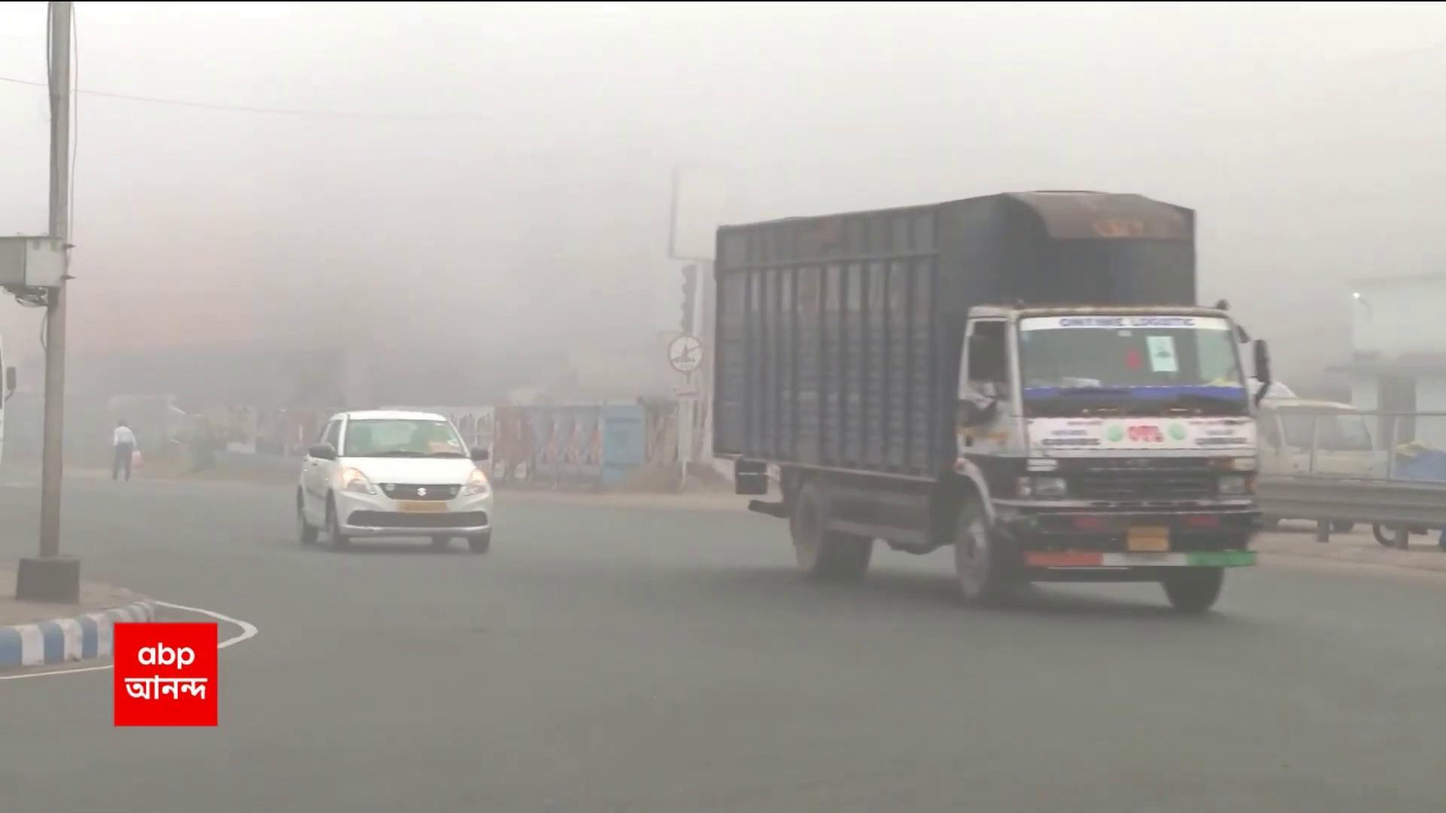Car: (294, 409, 496, 556)
Truck: (706, 184, 1276, 611)
